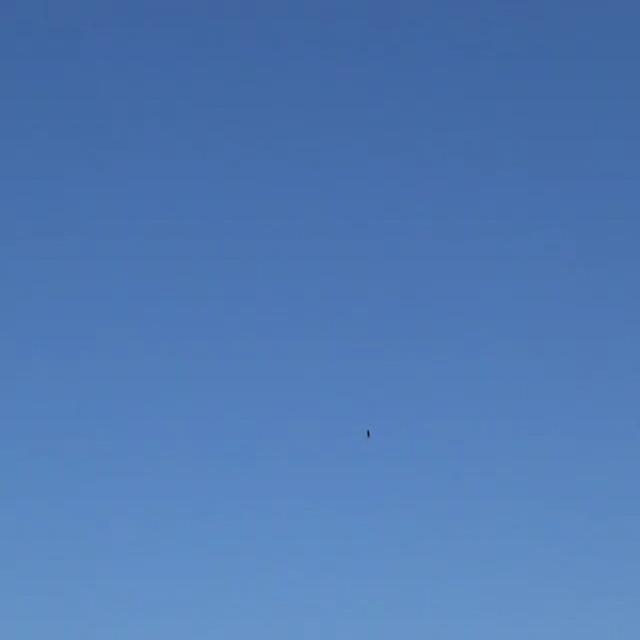bird: (362, 423, 376, 442)
